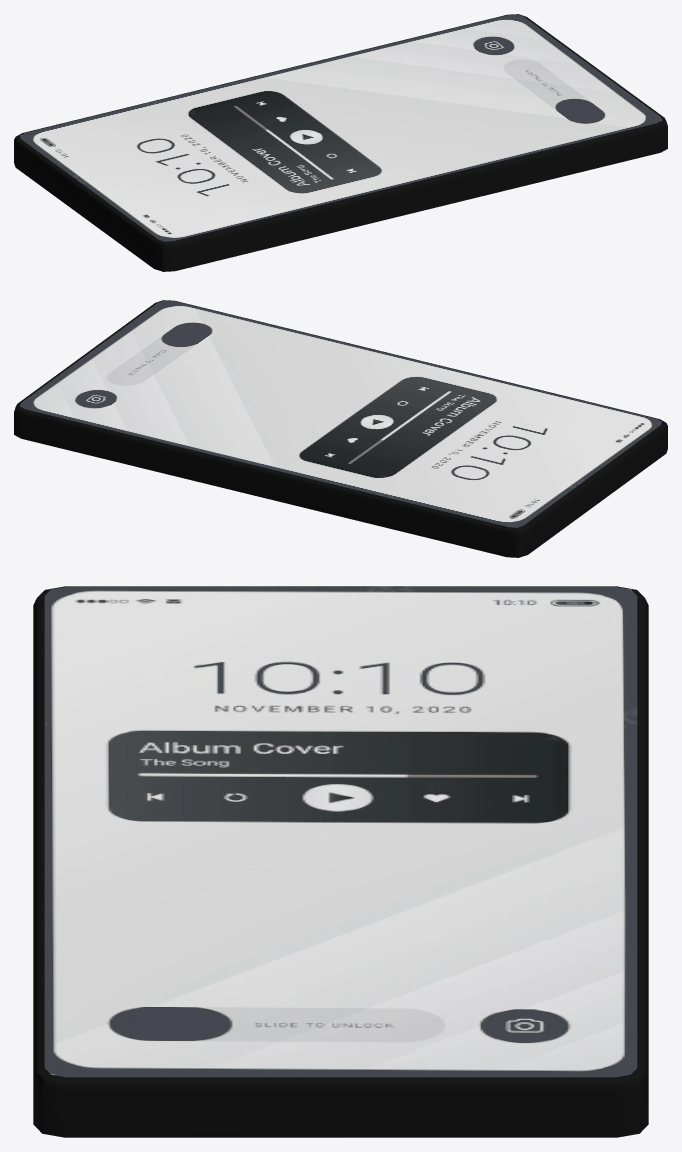
Rendered from Mobile.fbx.
3 renders of one model, top to bottom at view 1: azimuth 30°, elevation 25°; view 2: azimuth 150°, elevation 25°; view 3: azimuth 270°, elevation 25°, orthographic. The views are drawn at different scales.
Parts seen in each view (by area): view 1: Mobile; view 2: Mobile; view 3: Mobile.
Part boxes in pixels (x1,y1,x2,y2): Mobile: (14, 14, 667, 271); Mobile: (14, 300, 667, 557); Mobile: (33, 586, 648, 1137).
Size of the model in its own units: 40.77 by 2.1 by 21.19.
Materials: 2 (1 with a texture image).
